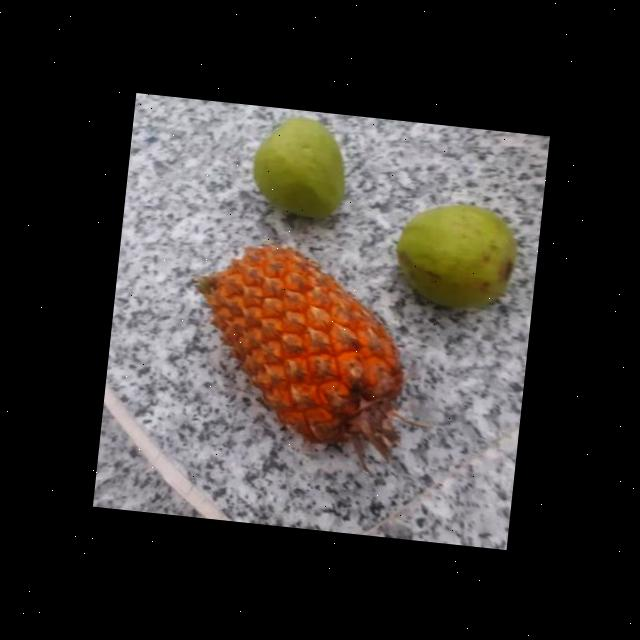guava: (384, 197, 521, 310), (248, 114, 352, 221)
pineapple: (177, 229, 414, 456)
